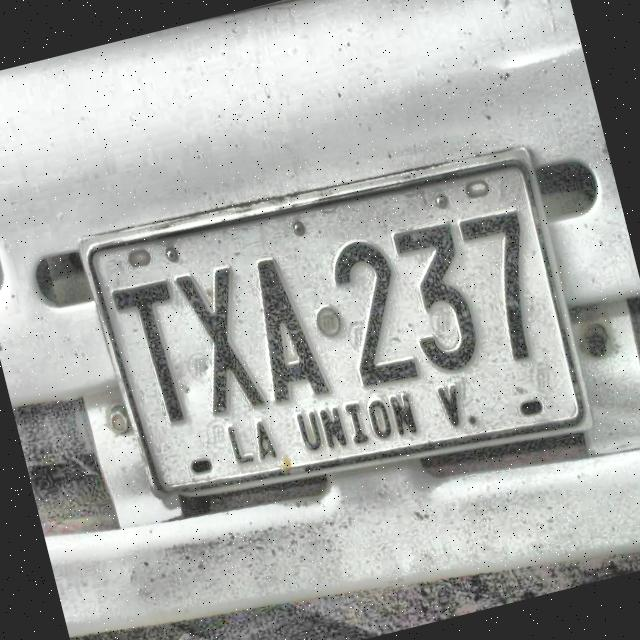plate: (82, 155, 585, 491)
